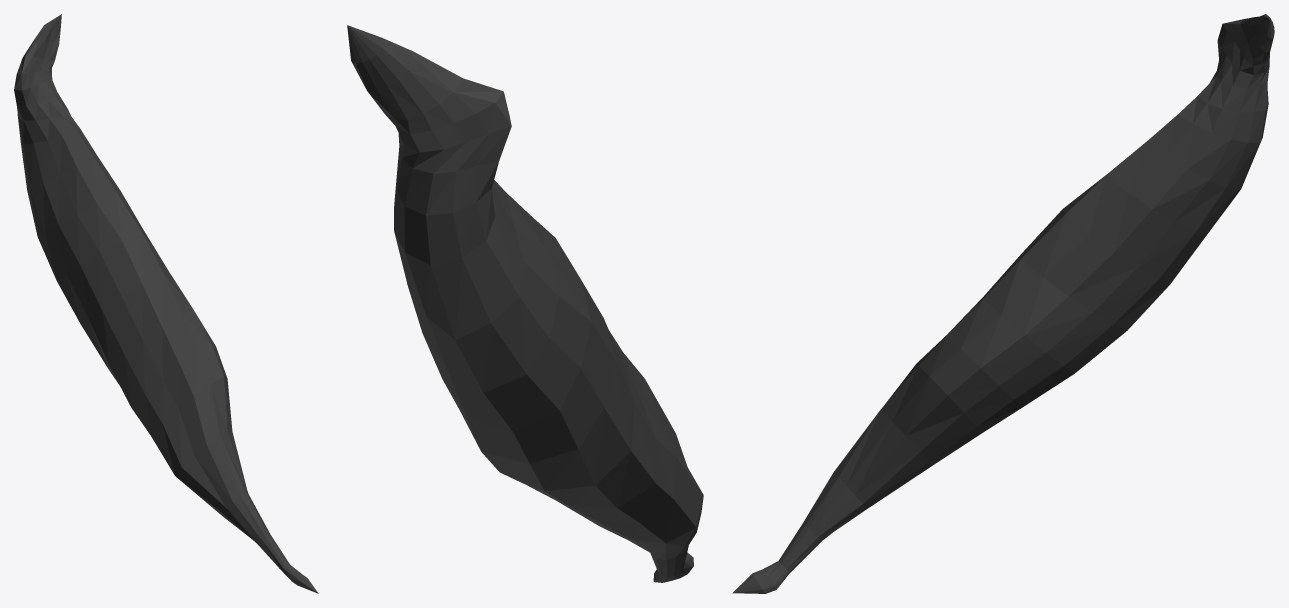
The model's file is SemimembranosusCaud.glb.
The picture shows the model from 3 angles, left to right: view 1: azimuth 30°, elevation 25°; view 2: azimuth 150°, elevation 25°; view 3: azimuth 270°, elevation 25°; orthographic projection. The views are drawn at different scales.
Parts seen in each view (by area): view 1: SemimembranosusCaud; view 2: SemimembranosusCaud; view 3: SemimembranosusCaud.
Part boxes in pixels (bbox=[...]): SemimembranosusCaud: bbox=[14, 14, 318, 593]; SemimembranosusCaud: bbox=[347, 25, 703, 582]; SemimembranosusCaud: bbox=[732, 14, 1274, 593].
Bounding box in the file's own units: 1.85 × 6.95 × 6.24.
1 material, 1 textured.
